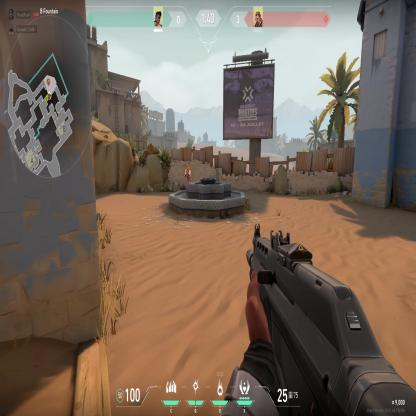enemy: (185, 164, 191, 182)
